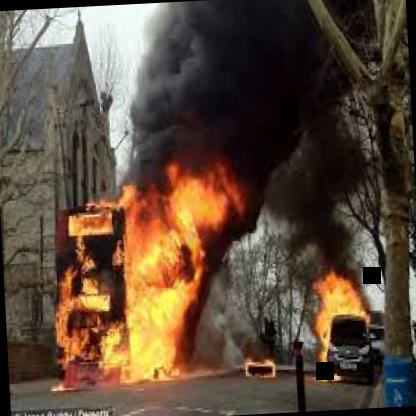fire: (48, 226, 200, 395), (134, 97, 265, 251), (212, 7, 303, 145), (308, 258, 379, 390)
